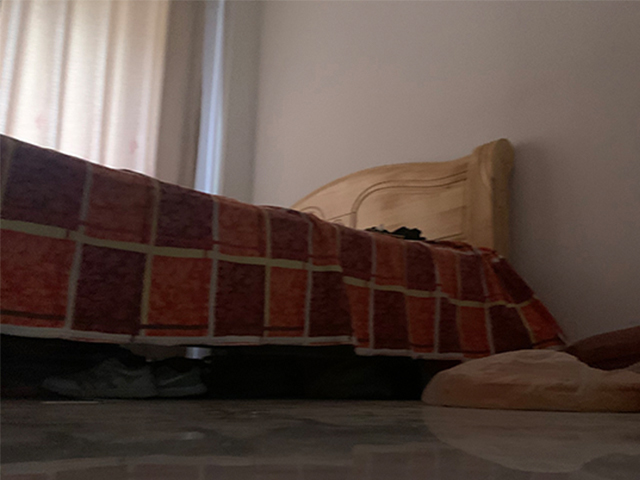bed: (1, 135, 566, 394)
curtain: (2, 2, 205, 195)
